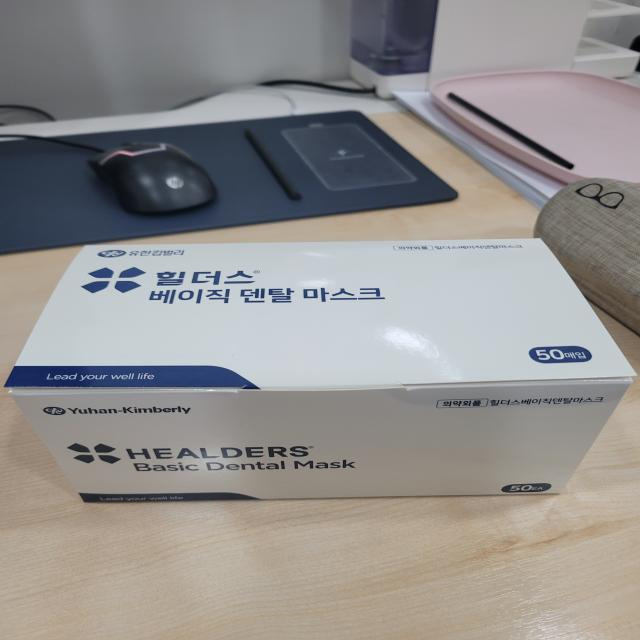mask: (0, 230, 640, 530)
